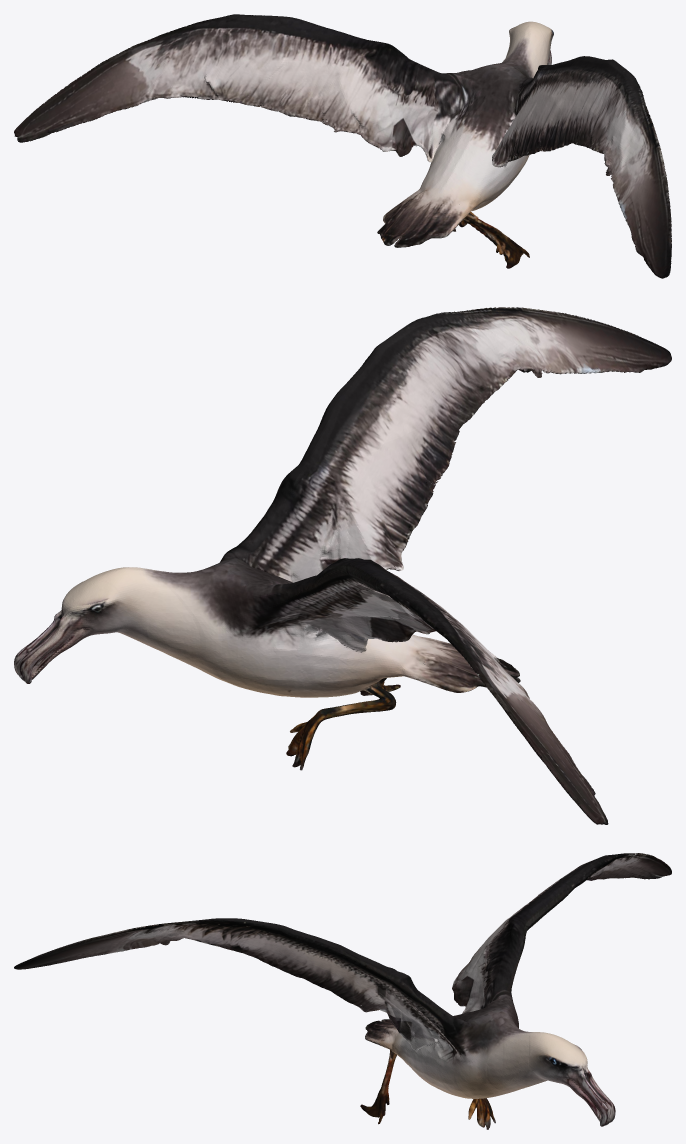
File: Albatros.glb
3 views of the same model, one above another, from view 1: azimuth 30°, elevation 25°; view 2: azimuth 150°, elevation 25°; view 3: azimuth 270°, elevation 25° (orthographic). The views are drawn at different scales.
Parts seen in each view (by area): view 1: tripo_node_c14e7dd6-a992-4dff-bc58-dfd811589886; view 2: tripo_node_c14e7dd6-a992-4dff-bc58-dfd811589886; view 3: tripo_node_c14e7dd6-a992-4dff-bc58-dfd811589886.
Boxes of the visible parts, x1,y1,x2,y2 form: tripo_node_c14e7dd6-a992-4dff-bc58-dfd811589886: (14, 14, 671, 278); tripo_node_c14e7dd6-a992-4dff-bc58-dfd811589886: (14, 307, 671, 824); tripo_node_c14e7dd6-a992-4dff-bc58-dfd811589886: (14, 853, 671, 1129).
Bounding box in the file's own units: 0.8165 × 0.3823 × 1.
Materials: 1 (1 with a texture image).
